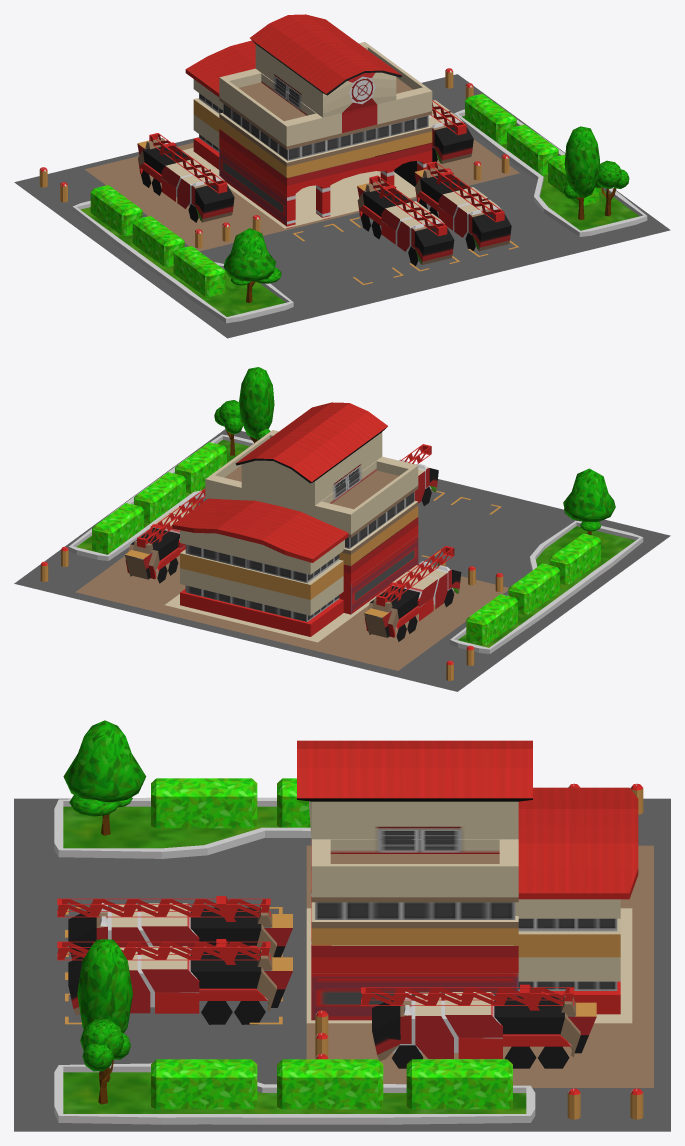
Rendered from firestation_LV1.fbx.
The picture shows the model from 3 angles, top to bottom: view 1: azimuth 30°, elevation 25°; view 2: azimuth 150°, elevation 25°; view 3: azimuth 270°, elevation 25°; orthographic projection. The views are drawn at different scales.
Visible parts, largest first — view 1: firestation 1; view 2: firestation 1; view 3: firestation 1.
Boxes of the visible parts, bbox=[...] form: firestation 1: bbox=[14, 14, 670, 338]; firestation 1: bbox=[14, 367, 670, 691]; firestation 1: bbox=[14, 720, 670, 1131].
Bounding box in the file's own units: 120 × 37.7 × 100.
